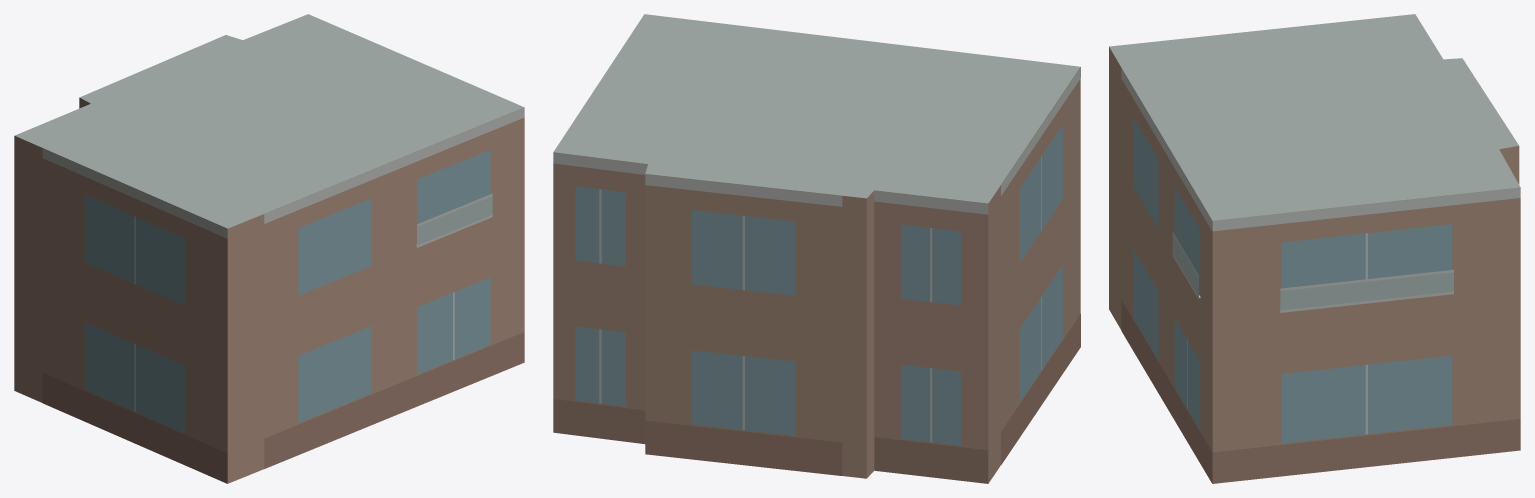
The model's file is survey-upis-32917823.glb.
The picture shows the model from 3 angles, left to right: view 1: azimuth 30°, elevation 25°; view 2: azimuth 150°, elevation 25°; view 3: azimuth 270°, elevation 25°; orthographic projection. The views are drawn at different scales.
Visible parts, largest first — view 1: survey-upis-32917823.tmp; view 2: survey-upis-32917823.tmp; view 3: survey-upis-32917823.tmp.
Boxes of the visible parts, x1=… form: survey-upis-32917823.tmp: x1=14, y1=14, x2=524, y2=483; survey-upis-32917823.tmp: x1=553, y1=14, x2=1080, y2=483; survey-upis-32917823.tmp: x1=1109, y1=14, x2=1520, y2=483.
Bounding box in the file's own units: 10.3 × 6.1 × 8.66.
